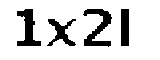1: (14, 5, 44, 49)
2: (80, 3, 114, 49)
I: (120, 6, 135, 47)
x: (47, 16, 78, 50)
